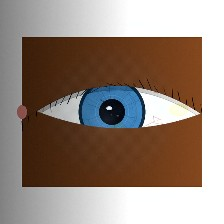pinguecula_lesion: (159, 94, 198, 126)
